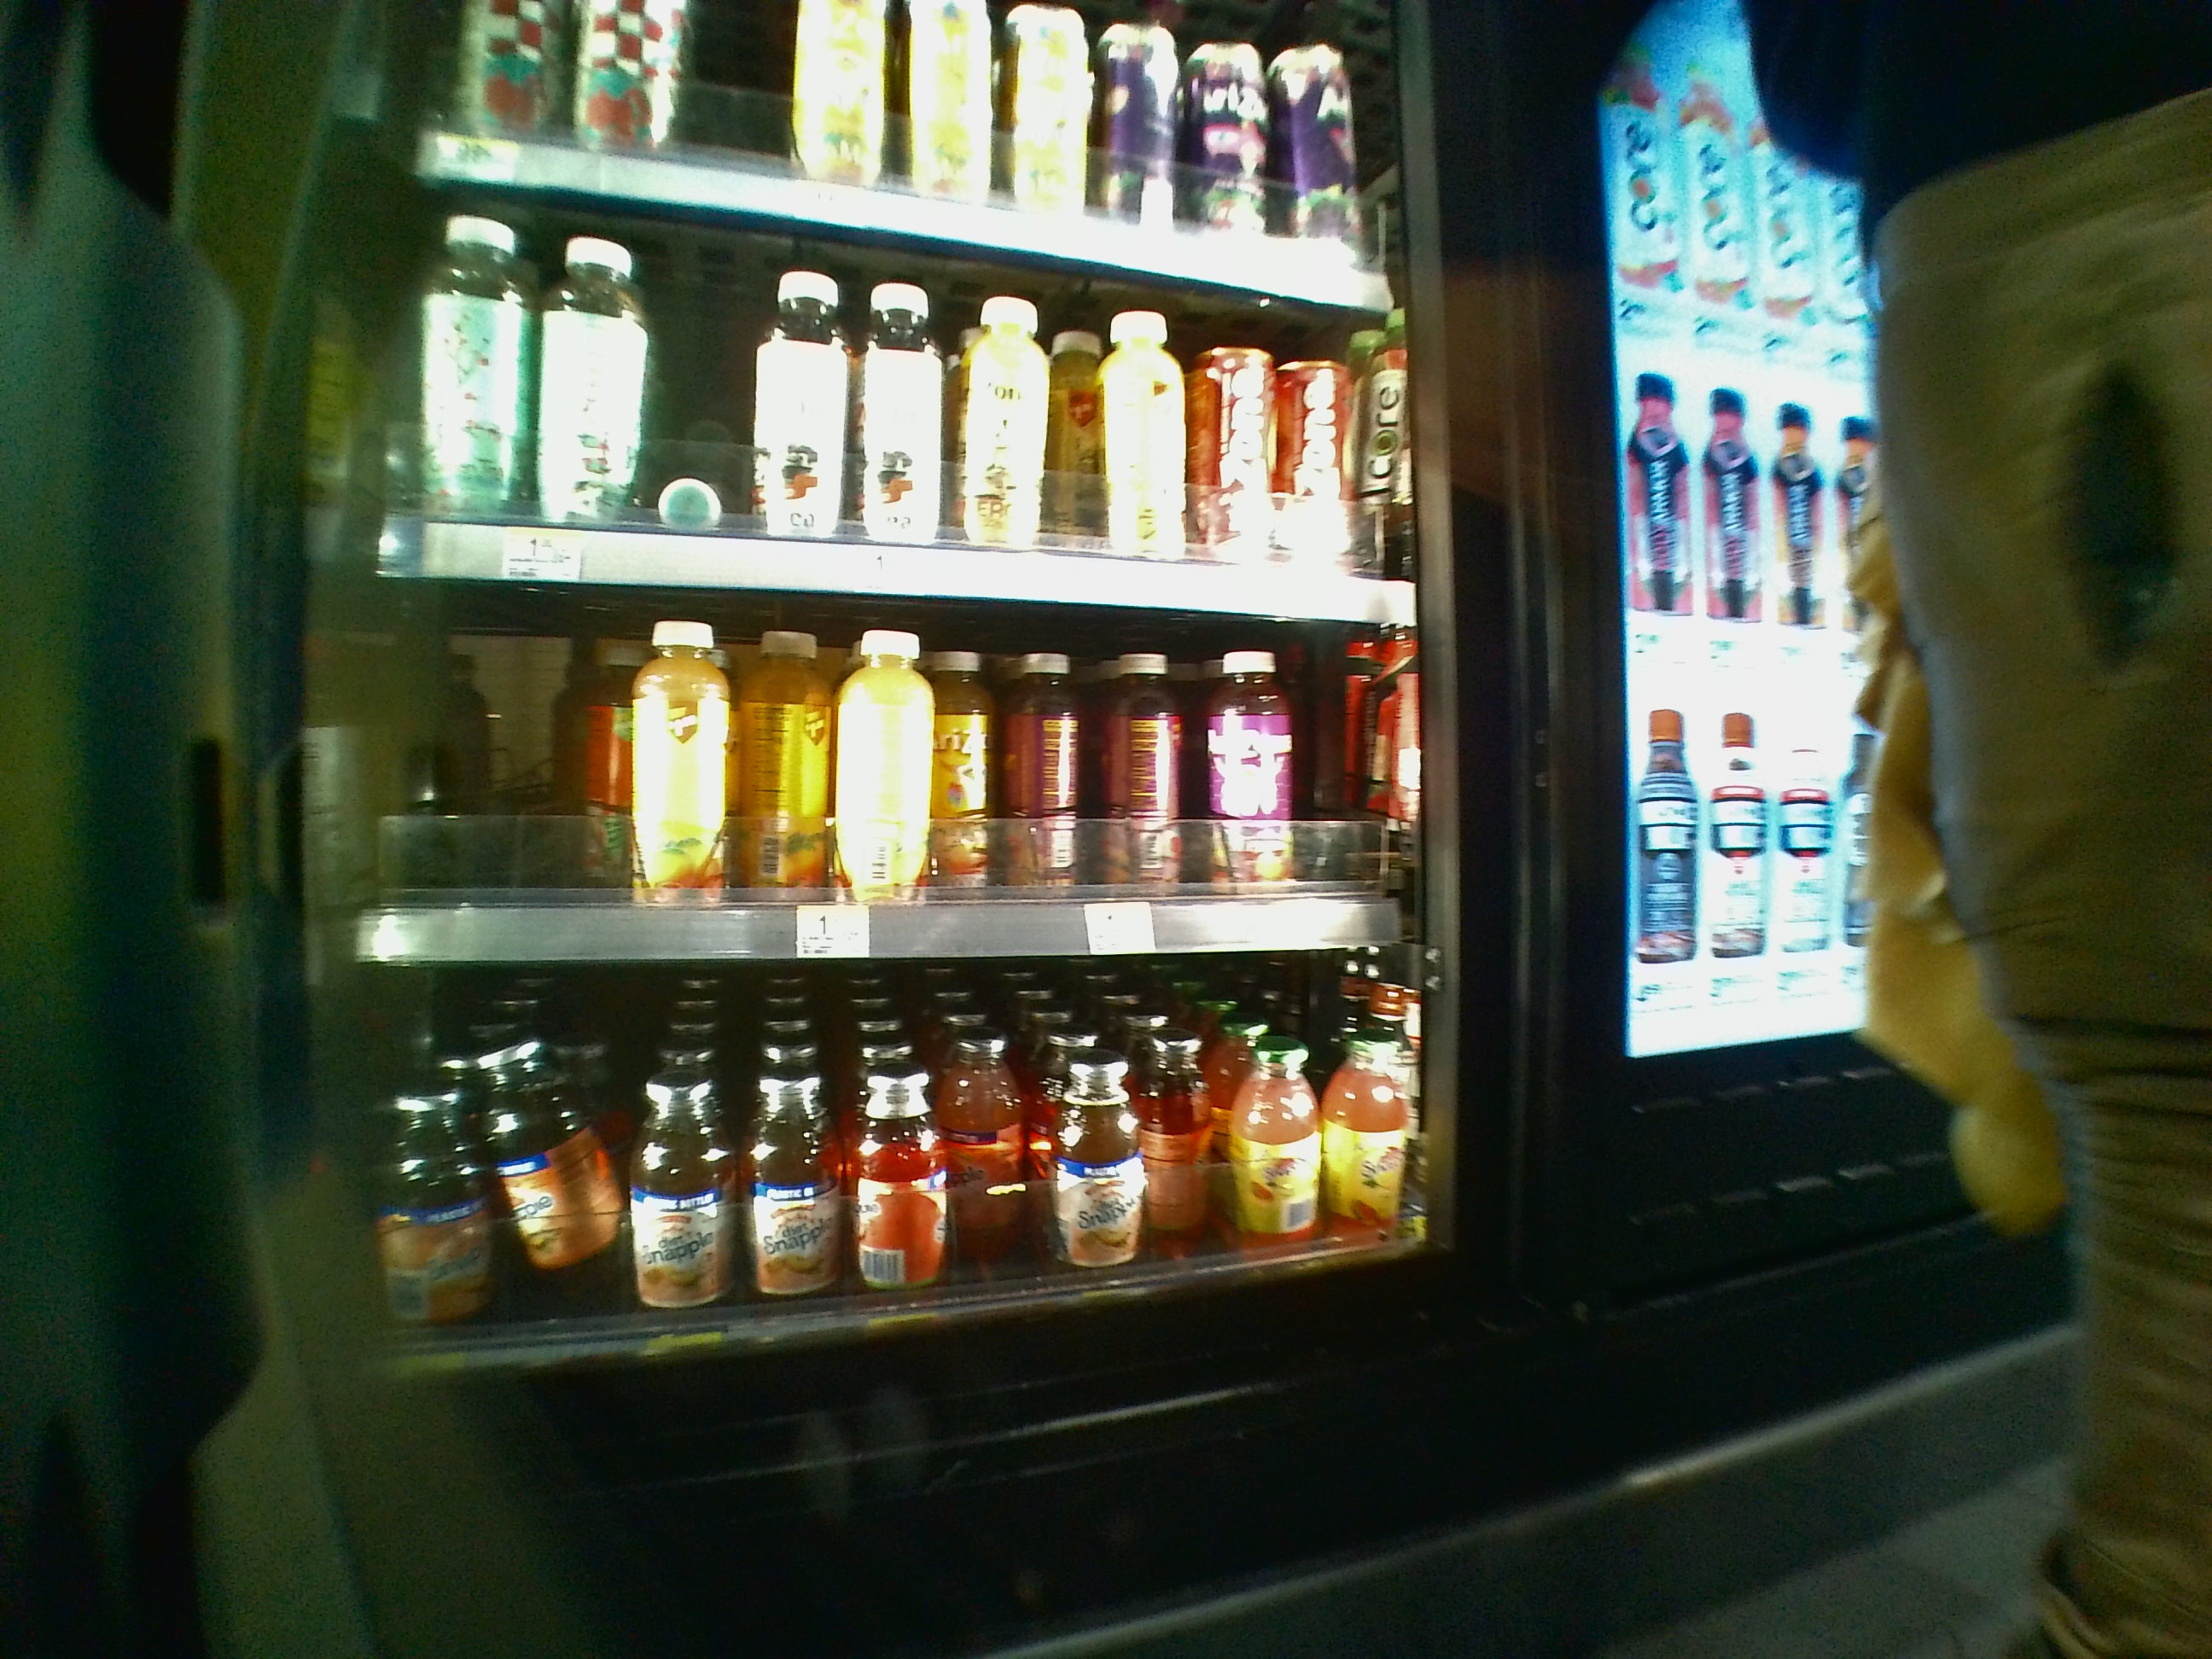shelf: (364, 967, 1428, 1373), (359, 580, 1420, 955)
